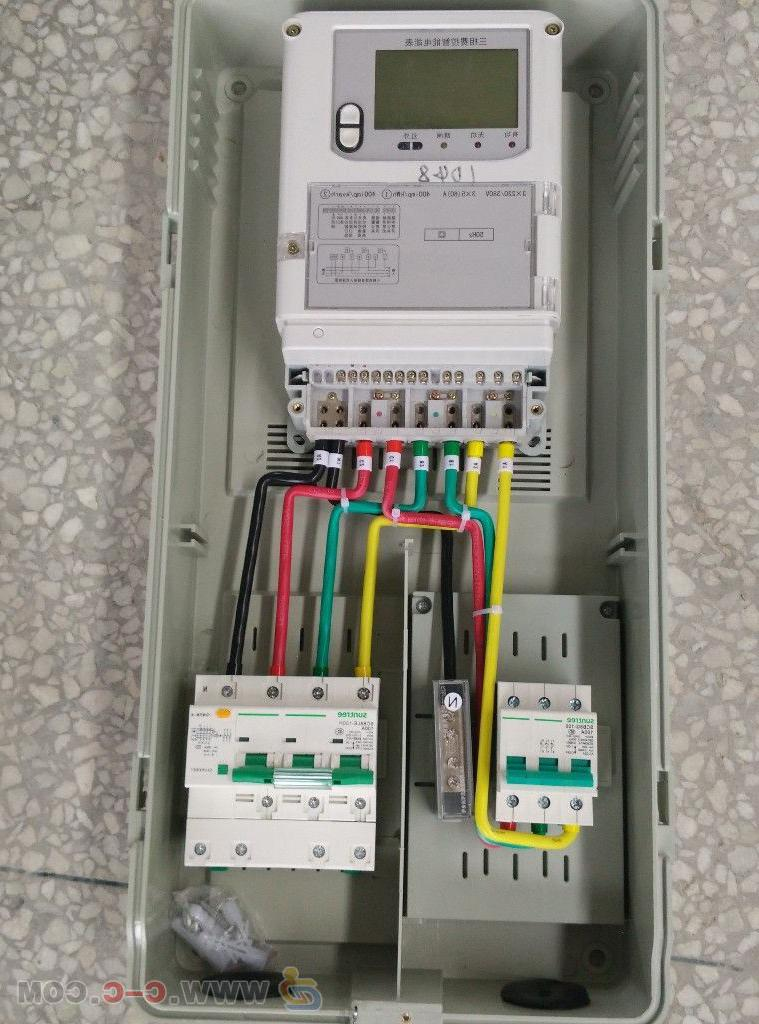digital: (276, 10, 563, 326)
